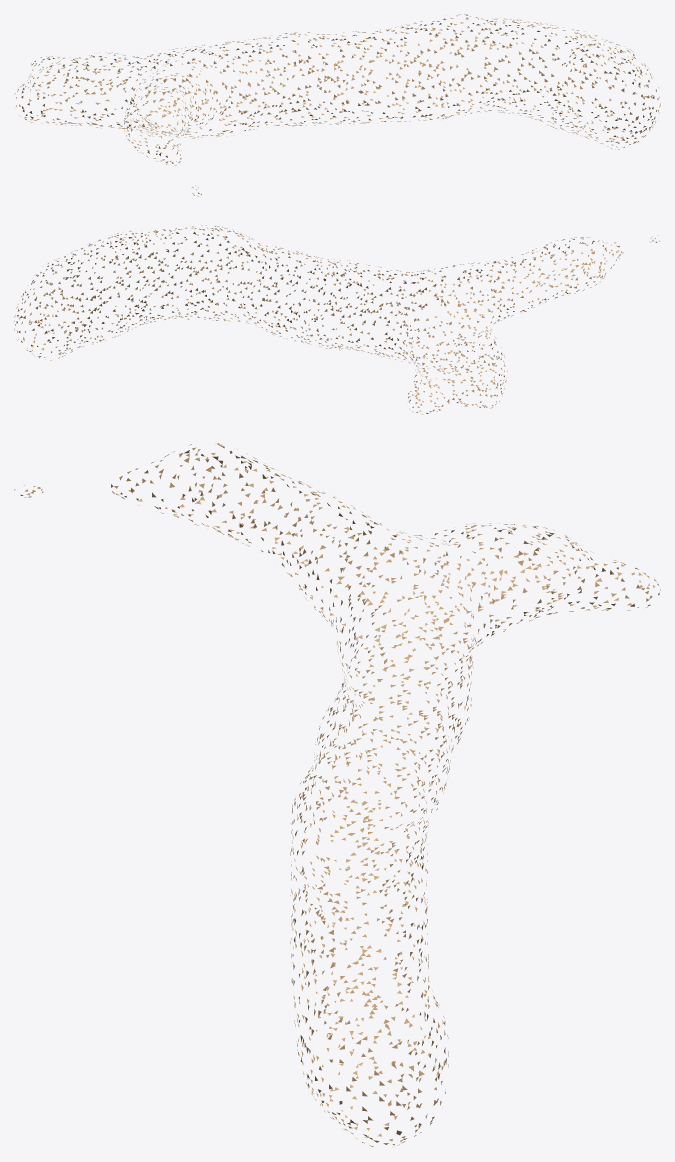
Rendered from morph_006.glb.
3 renders of one model, top to bottom at view 1: azimuth 30°, elevation 25°; view 2: azimuth 150°, elevation 25°; view 3: azimuth 270°, elevation 25°, orthographic. The views are drawn at different scales.
Bounding box in the file's own units: 128 × 45.43 × 83.8.
